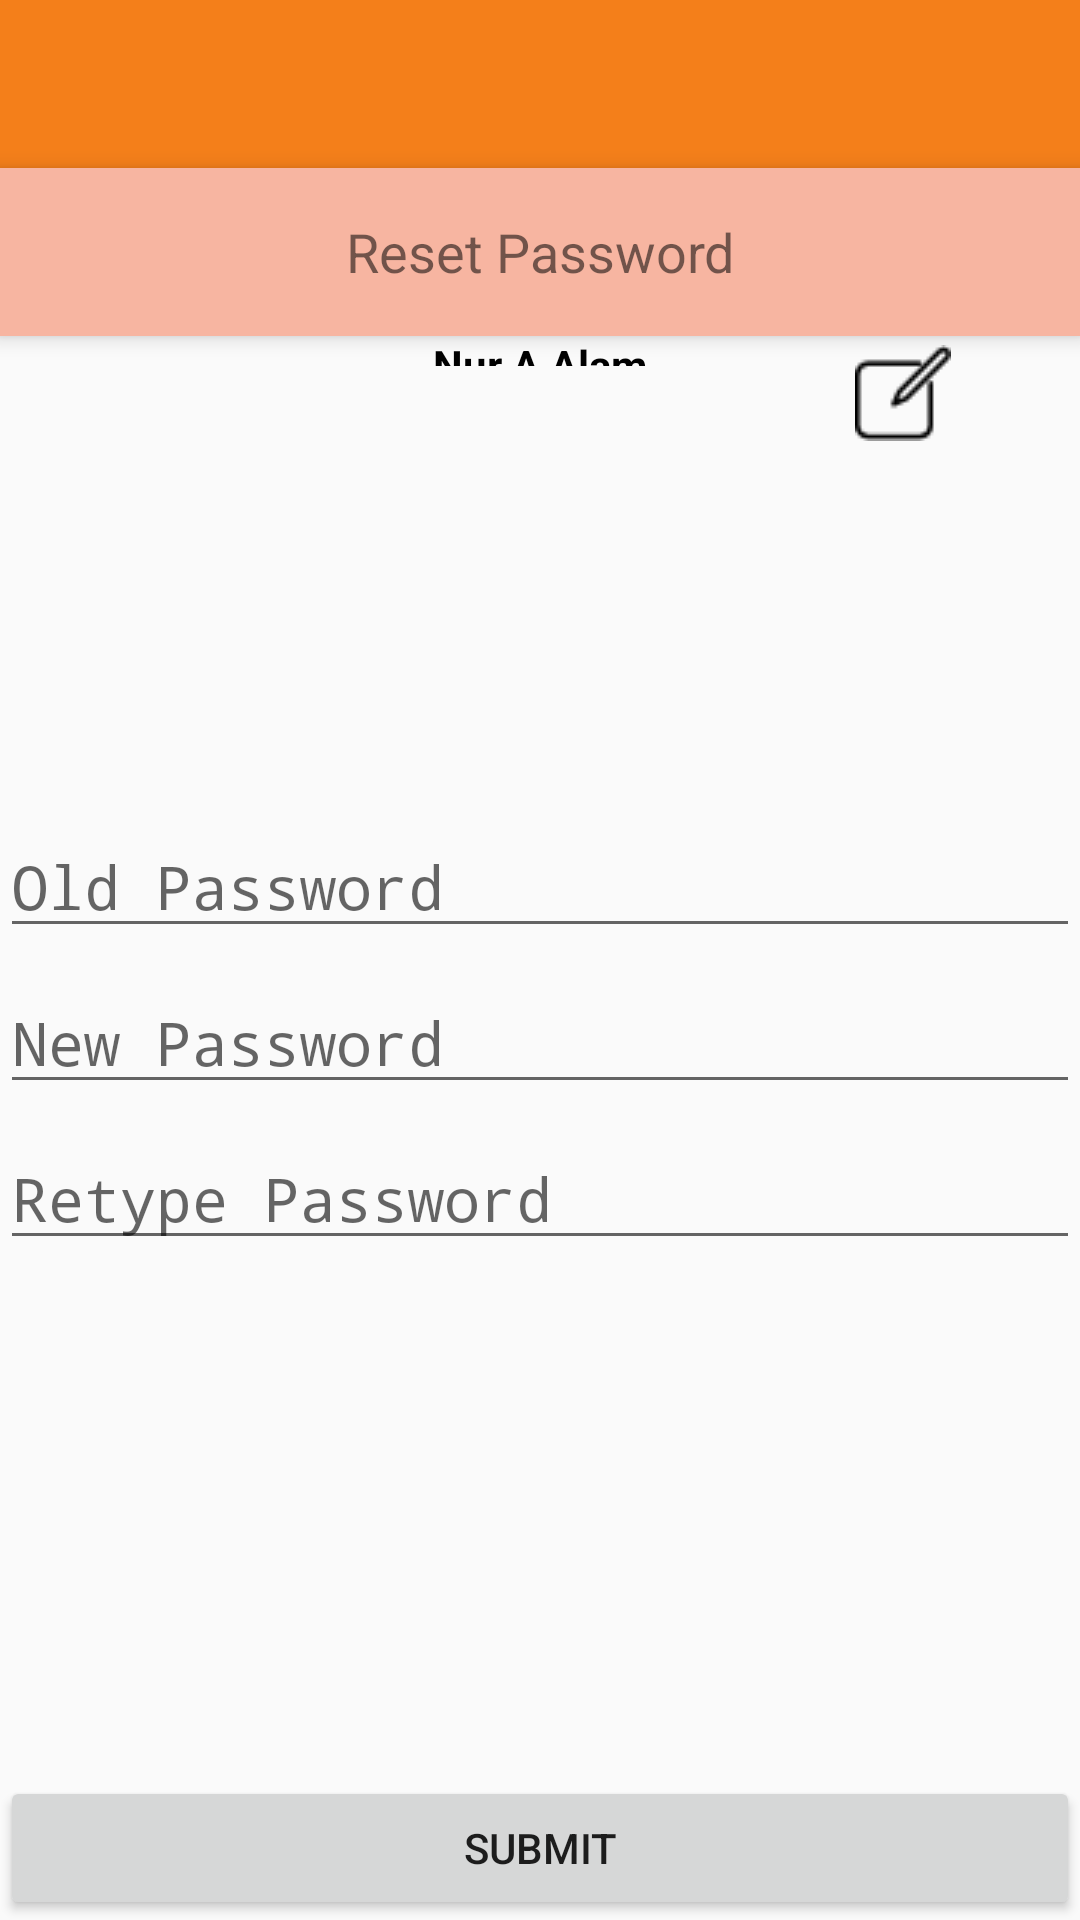

Where to tap for icons on this 1080px x 1920px app screen, as (x=x, y=y):
editbutton: (x=903, y=393)
